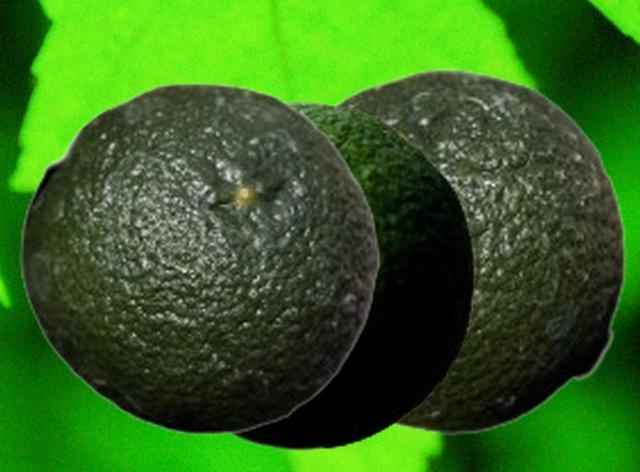calamansi: (19, 82, 380, 434), (331, 68, 626, 434), (221, 99, 474, 451)
